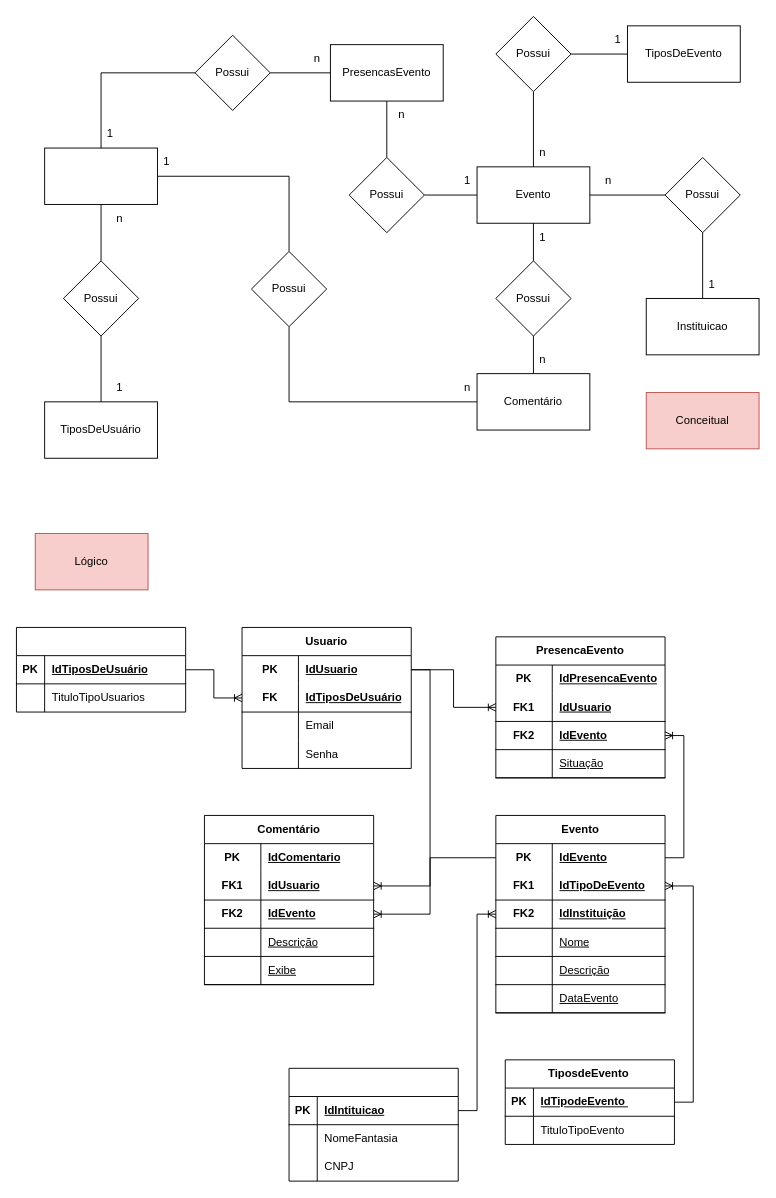
Image size: 776x1198. Some labels were removed from this diagram. Each missing label, with the box of its shape:
Instituição: (288, 1067, 458, 1181)
TiposDeUsuario: (16, 627, 186, 712)
Usuário: (44, 147, 157, 204)
